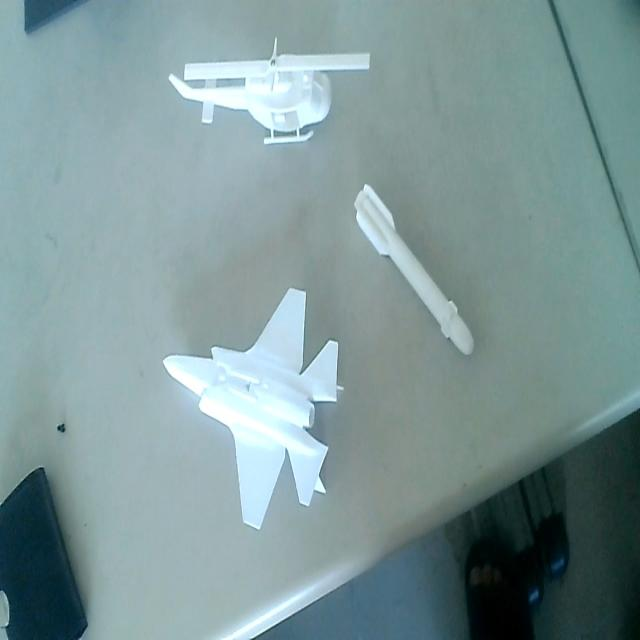Helicopter: (164, 36, 375, 156)
Jet: (159, 285, 345, 529)
Rocket: (351, 174, 477, 361)
